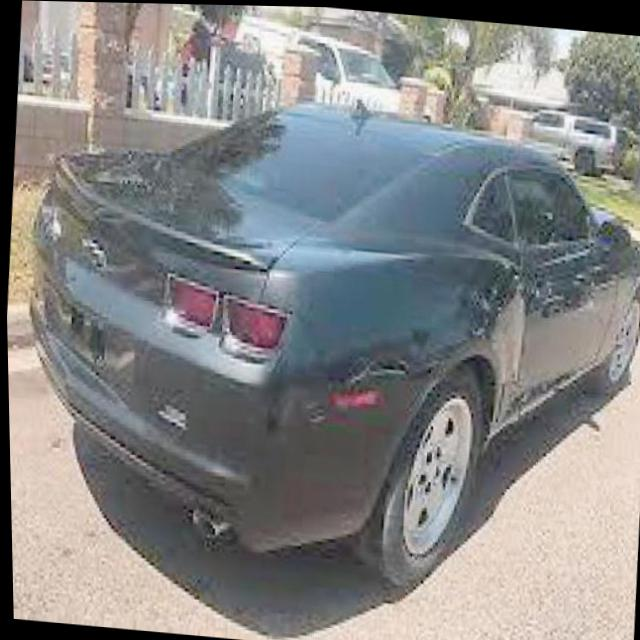Car-Damage: (343, 258, 596, 440)
